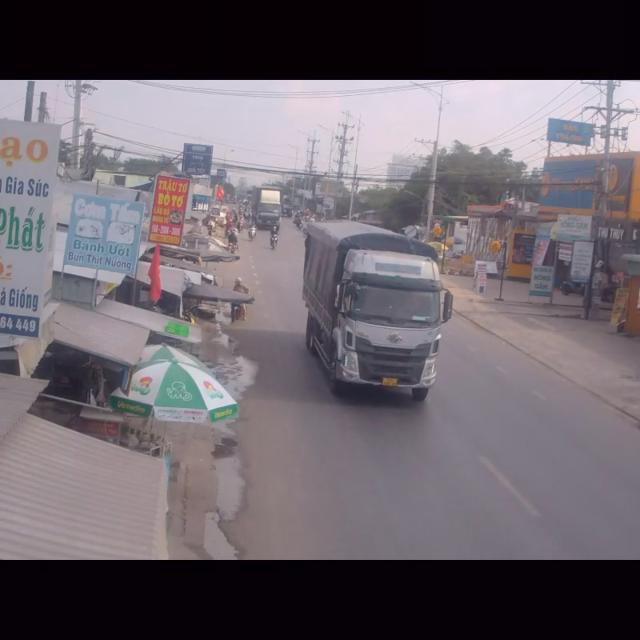truck: (302, 215, 454, 397)
